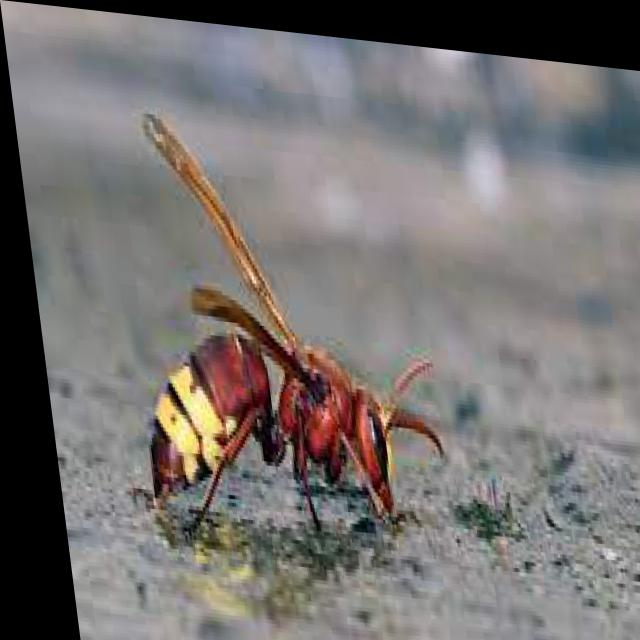Vespa Orientalis: (67, 81, 469, 614)
